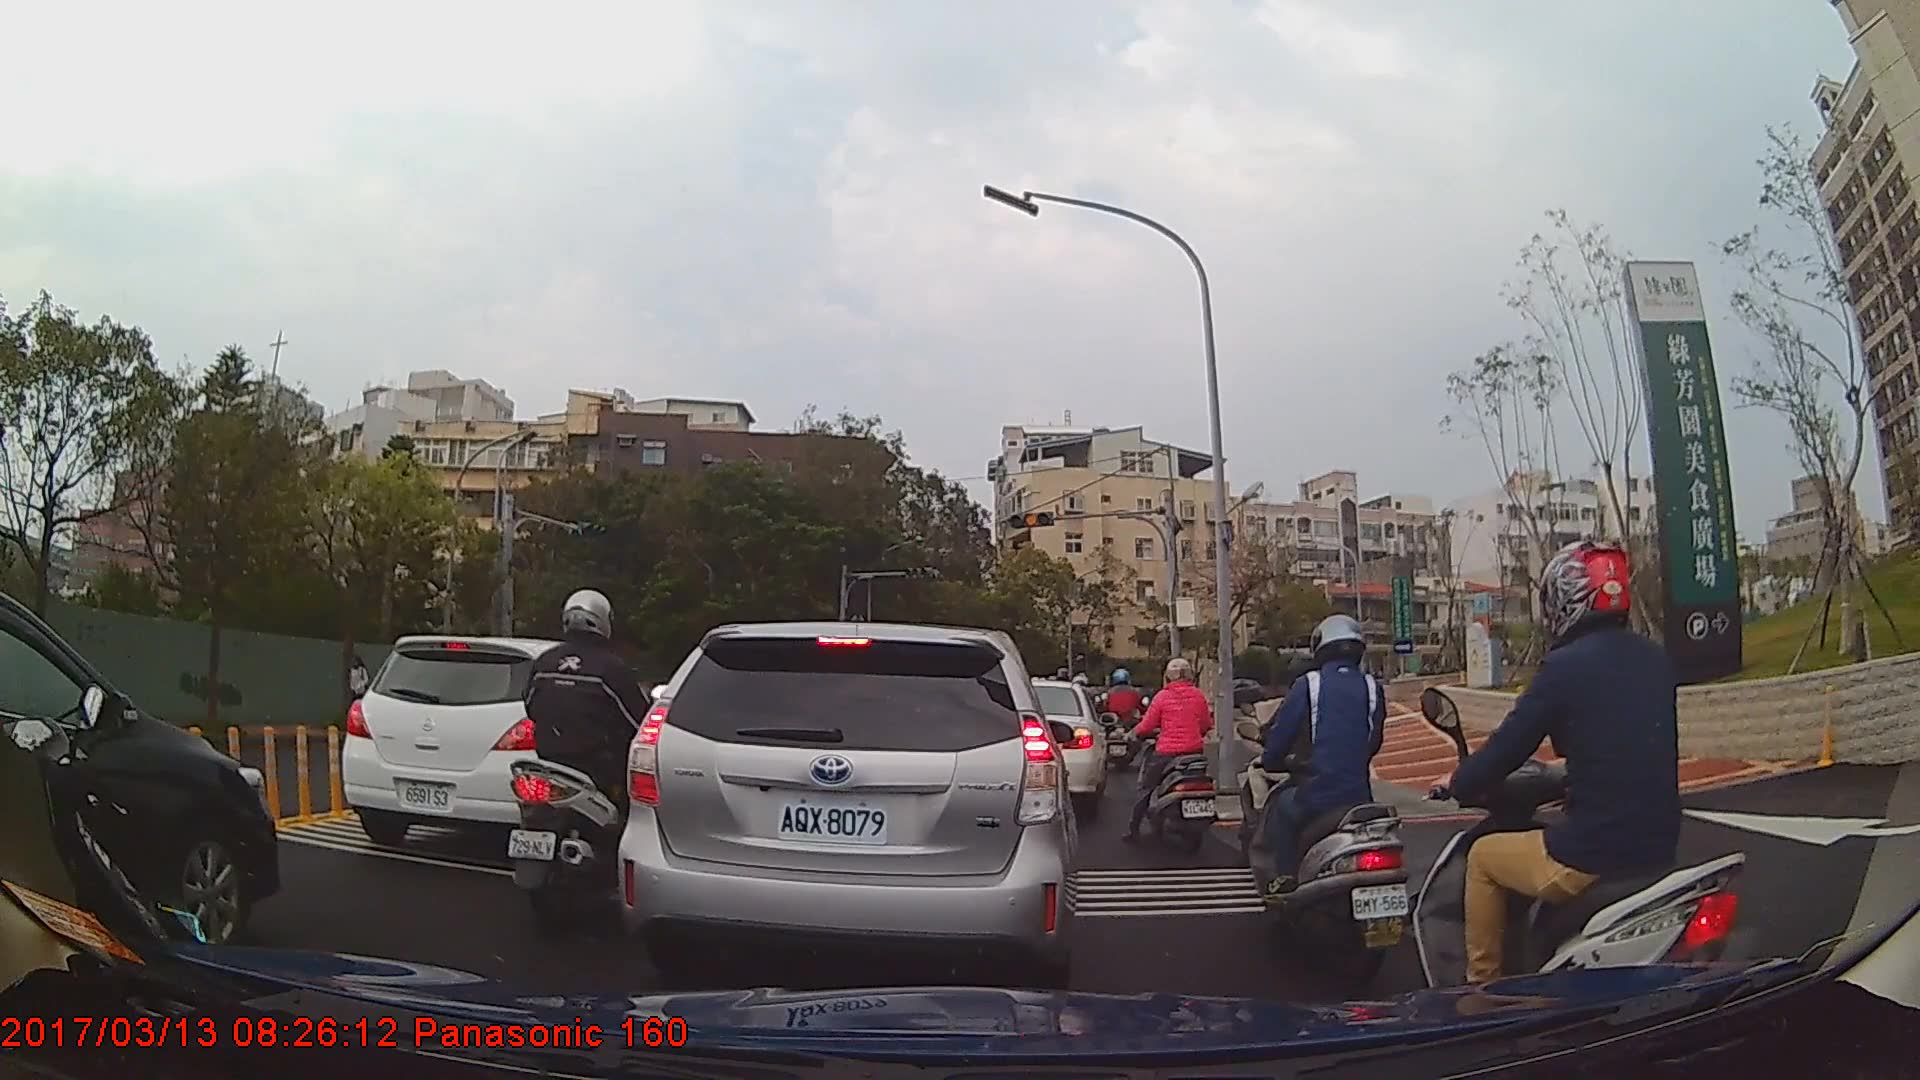pedestrian: (349, 656, 375, 731)
rider: (1425, 528, 1765, 1066), (1244, 615, 1414, 999), (500, 587, 668, 936), (1130, 660, 1222, 857), (1099, 666, 1146, 769)
vehicle: (614, 622, 1080, 1016), (0, 584, 282, 954), (339, 632, 671, 856), (1001, 677, 1108, 813), (1207, 679, 1266, 708)
